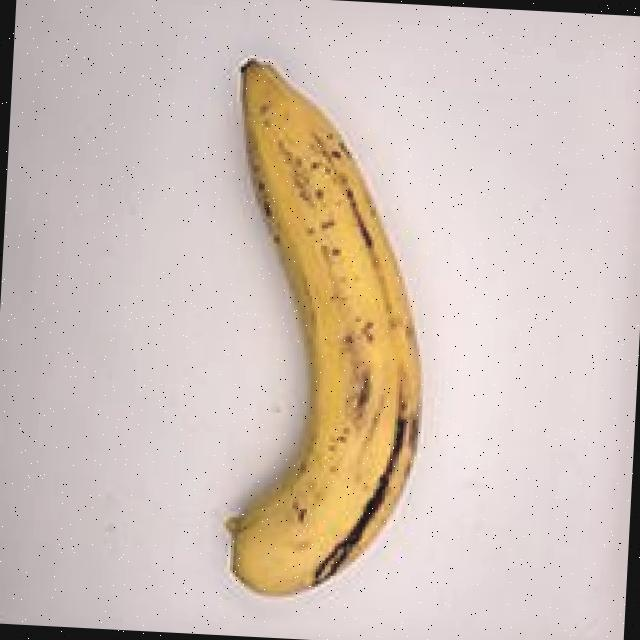Overripe: (112, 33, 494, 626)
